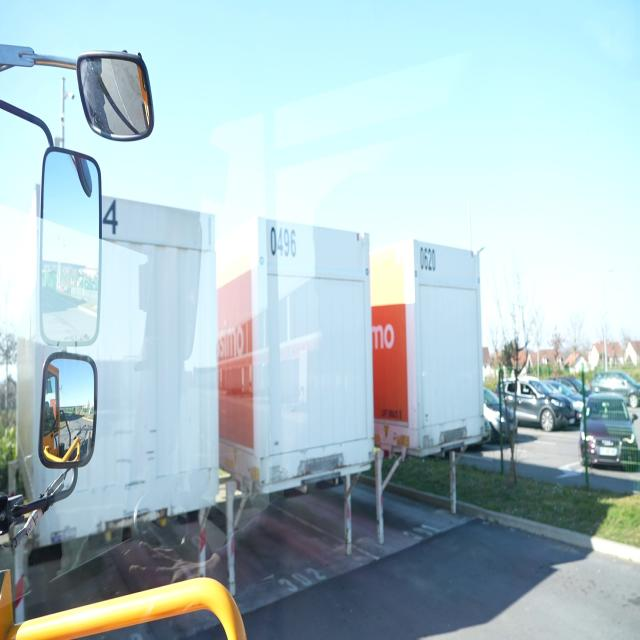Code: (267, 217, 298, 260), (417, 242, 438, 274)
